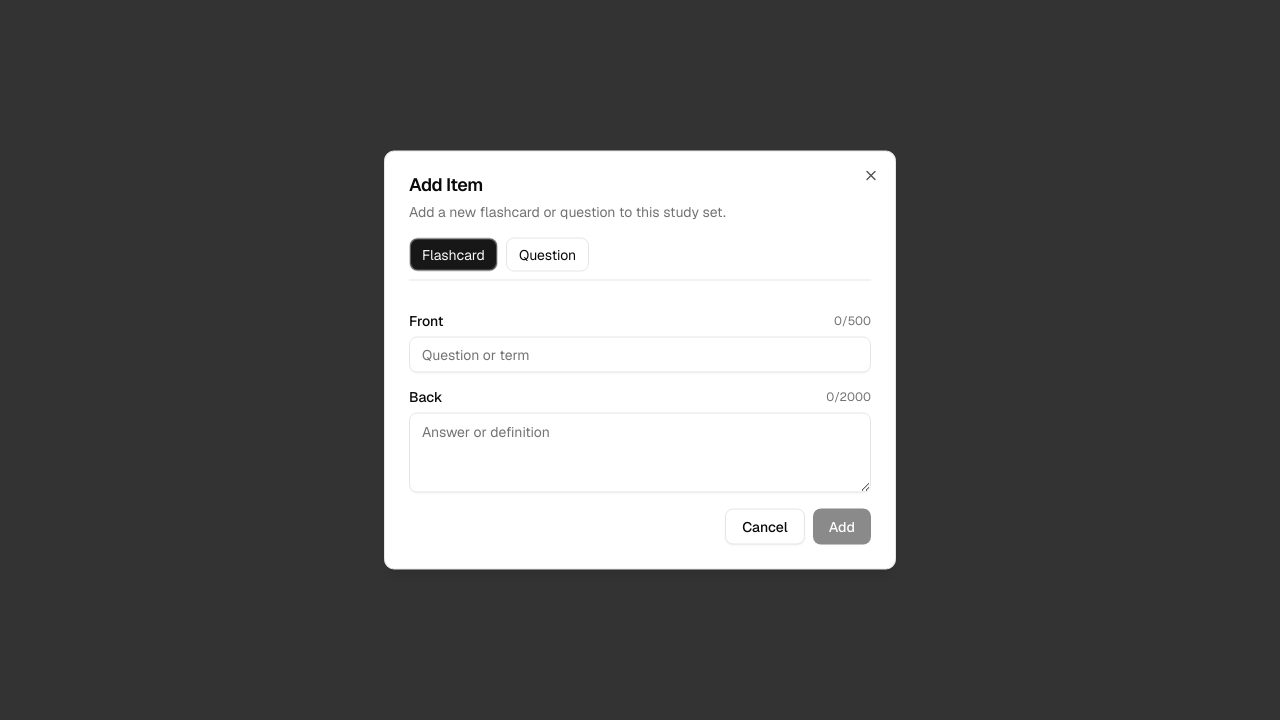
AddItemModal › tab switching › switches to question form when Question tab is clicked
Click the button "Question" at (548, 254), box x1=506 y1=238 x2=589 y2=272
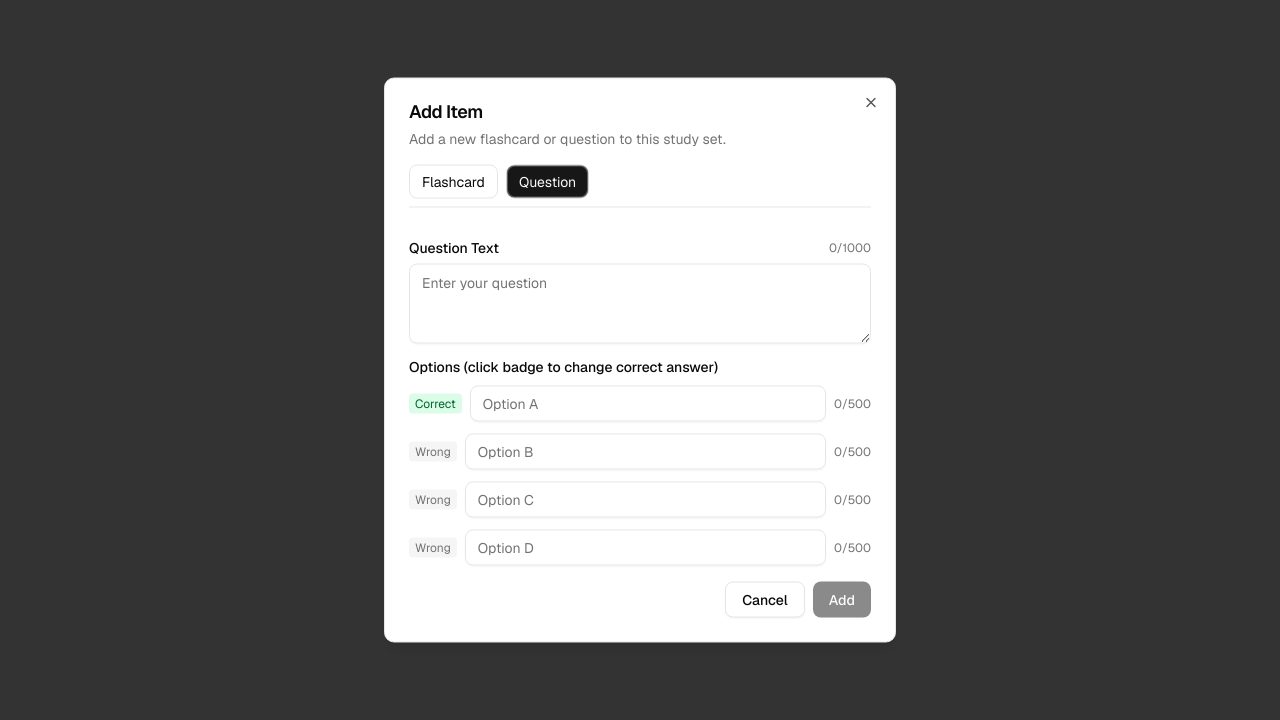
Expected: the label labelled "Front" is gone
Expected: the text box labelled "Question Text" is shown, x1=409 y1=264 x2=871 y2=344
